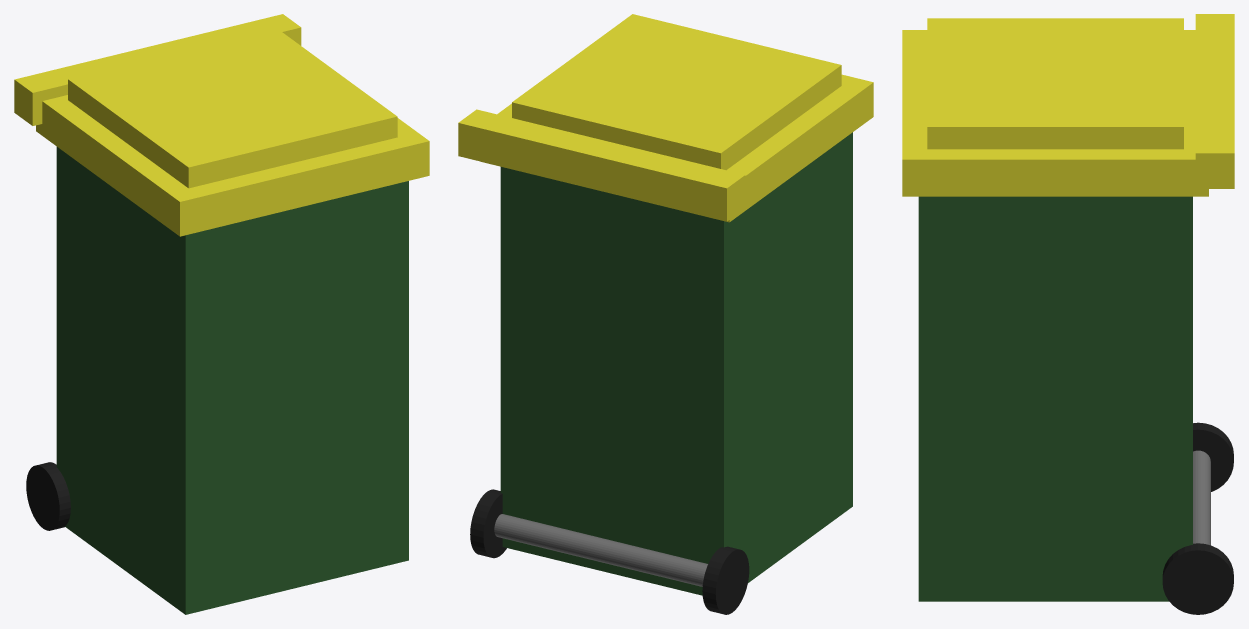
Rendered from yardBin.fbx.
The picture shows the model from 3 angles, left to right: view 1: azimuth 30°, elevation 25°; view 2: azimuth 150°, elevation 25°; view 3: azimuth 270°, elevation 25°; orthographic projection. The views are drawn at different scales.
Parts seen in each view (by area): view 1: bin, topLid, mainLid, handle, rightWheel; view 2: bin, topLid, handle, mainLid, axle, rightWheel, leftWheel; view 3: bin, topLid, mainLid, handle, leftWheel, rightWheel, axle.
Part boxes in pixels (x1,y1,x2,y2): bin: [56, 147, 408, 614]; topLid: [68, 28, 397, 188]; mainLid: [36, 95, 429, 236]; handle: [14, 14, 301, 125]; rightWheel: [26, 462, 70, 530]; bin: [500, 132, 852, 595]; topLid: [512, 14, 841, 170]; handle: [458, 109, 745, 221]; mainLid: [481, 74, 873, 222]; axle: [494, 514, 707, 586]; rightWheel: [702, 546, 749, 614]; leftWheel: [470, 489, 506, 558]; bin: [918, 196, 1192, 601]; topLid: [927, 18, 1183, 149]; mainLid: [902, 30, 1208, 196]; handle: [1195, 14, 1234, 188]; leftWheel: [1162, 543, 1233, 614]; rightWheel: [1193, 422, 1233, 491]; axle: [1193, 450, 1210, 545].
Size of the model in its own units: 241 by 385 by 242.
